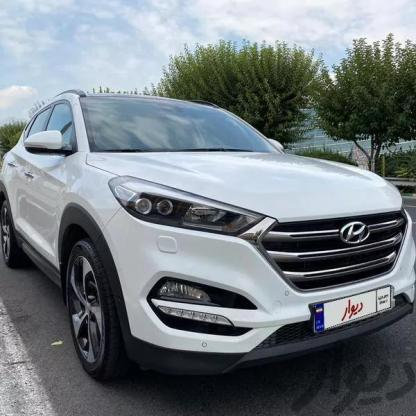Car: (0, 84, 416, 400)
